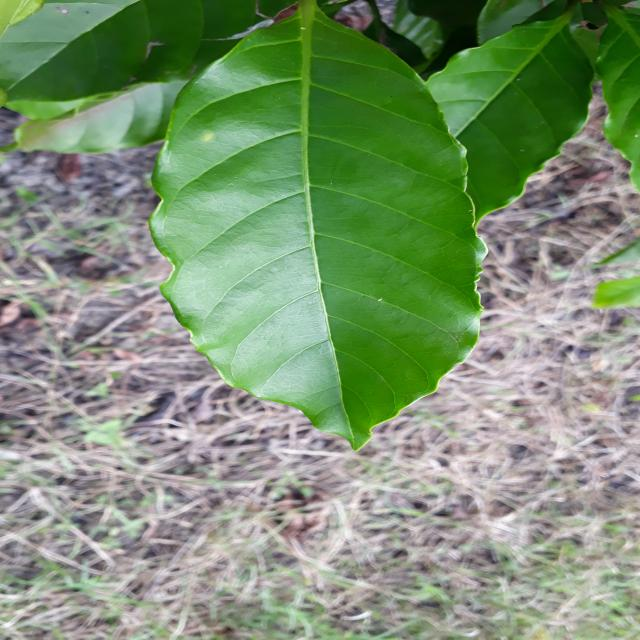Enfermedad-Roya: (152, 0, 484, 450)
